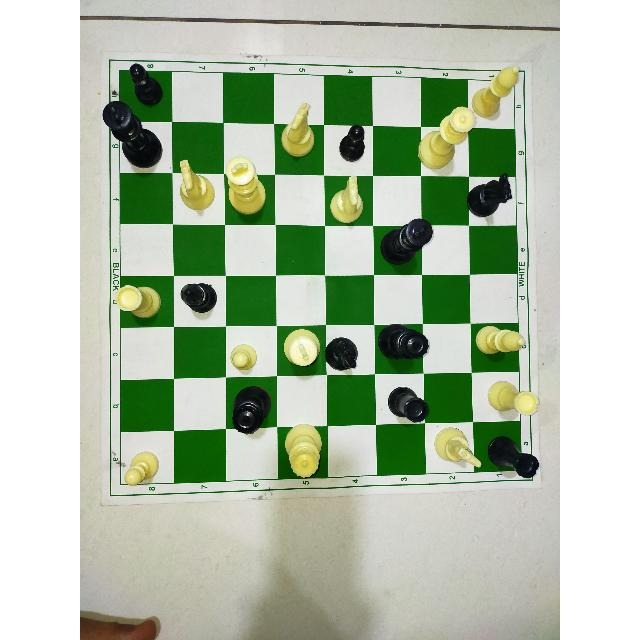black-bishop: (175, 277, 222, 318)
black-king: (103, 97, 166, 172), (374, 214, 433, 268)
black-knight: (463, 169, 514, 220), (324, 333, 362, 373)
black-pawn: (126, 59, 167, 105), (332, 119, 370, 163)
black-queen: (229, 387, 273, 435), (375, 326, 432, 363)
black-rook: (483, 431, 541, 483), (387, 383, 429, 429)
white-bishop: (471, 64, 529, 120), (471, 322, 533, 360)
white-king: (224, 156, 272, 216), (279, 323, 329, 371)
white-knight: (431, 425, 489, 479), (275, 100, 320, 158), (170, 157, 220, 209), (327, 170, 366, 226)
white-pawn: (123, 447, 165, 489), (226, 340, 262, 374)
white-queen: (415, 103, 476, 171), (282, 421, 332, 483)
white-rook: (488, 378, 540, 428), (113, 280, 168, 320)
